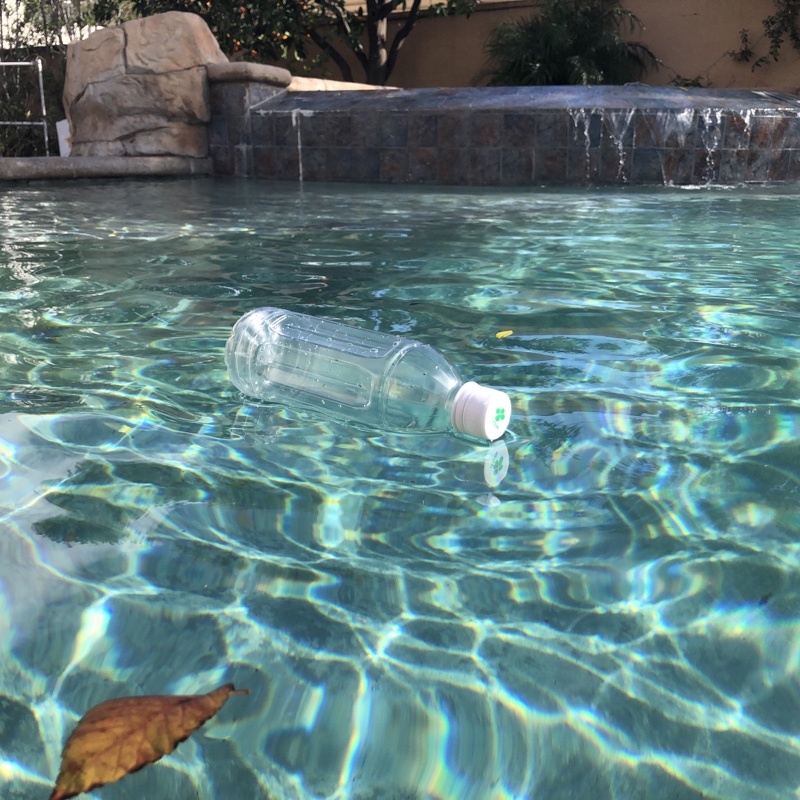Plastic Bottle: (217, 296, 517, 447)
